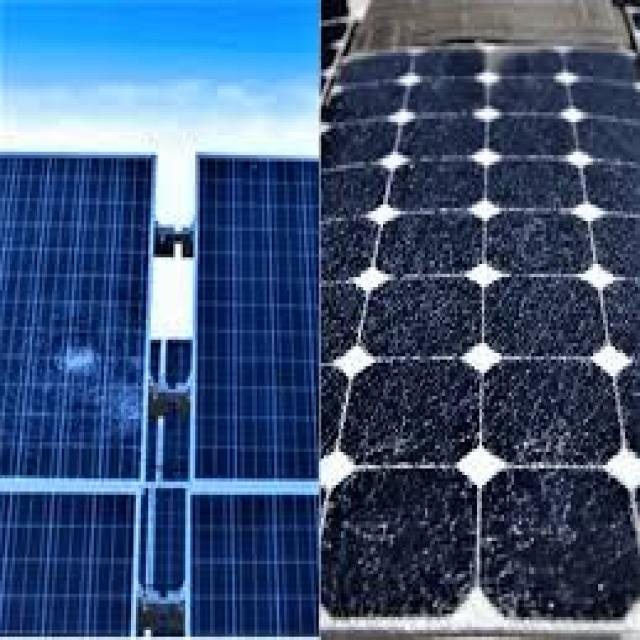faulty: (326, 66, 640, 640), (0, 157, 148, 482)
no faulty: (199, 156, 318, 493), (0, 496, 132, 640), (198, 496, 319, 640)
